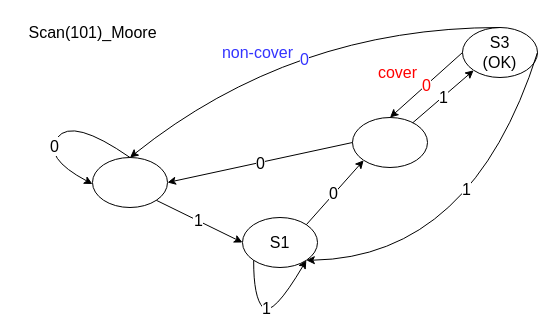
Image size: 555x335. Some labels were removed from this diagram. Here are the shapes that lost their labels. From the top down, the centre of each, then its label:
the point at 390,142: S2
the point at 130,182: S0
